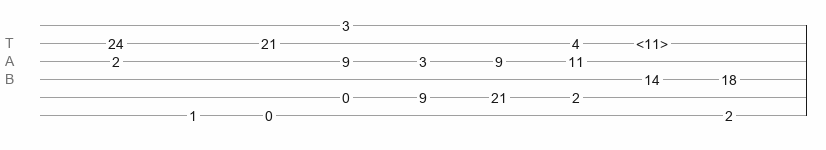0: (265, 108, 273, 118), (342, 90, 350, 100)
1: (189, 108, 197, 118)
11: (568, 54, 584, 64)
14: (644, 72, 660, 82)
18: (721, 72, 737, 82)
2: (112, 54, 120, 64), (572, 90, 580, 100), (725, 108, 733, 118)
21: (261, 36, 277, 46), (491, 90, 507, 100)
24: (108, 36, 124, 46)
3: (342, 18, 350, 28), (419, 54, 427, 64)
4: (572, 36, 580, 46)
9: (342, 54, 350, 64), (419, 90, 427, 100), (495, 54, 503, 64)
harmonic: (636, 36, 668, 46)
